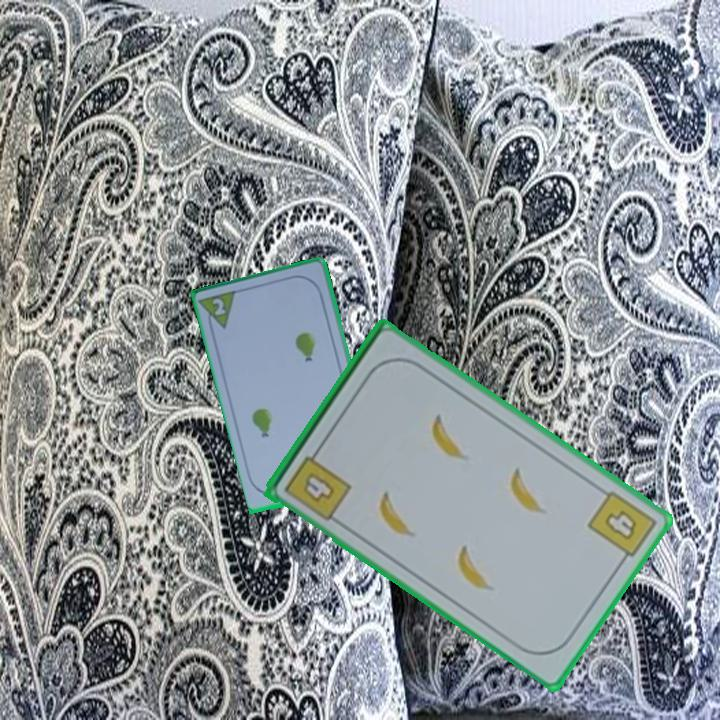2p: (209, 294, 229, 319)
4b: (584, 487, 660, 568), (281, 443, 355, 524)
